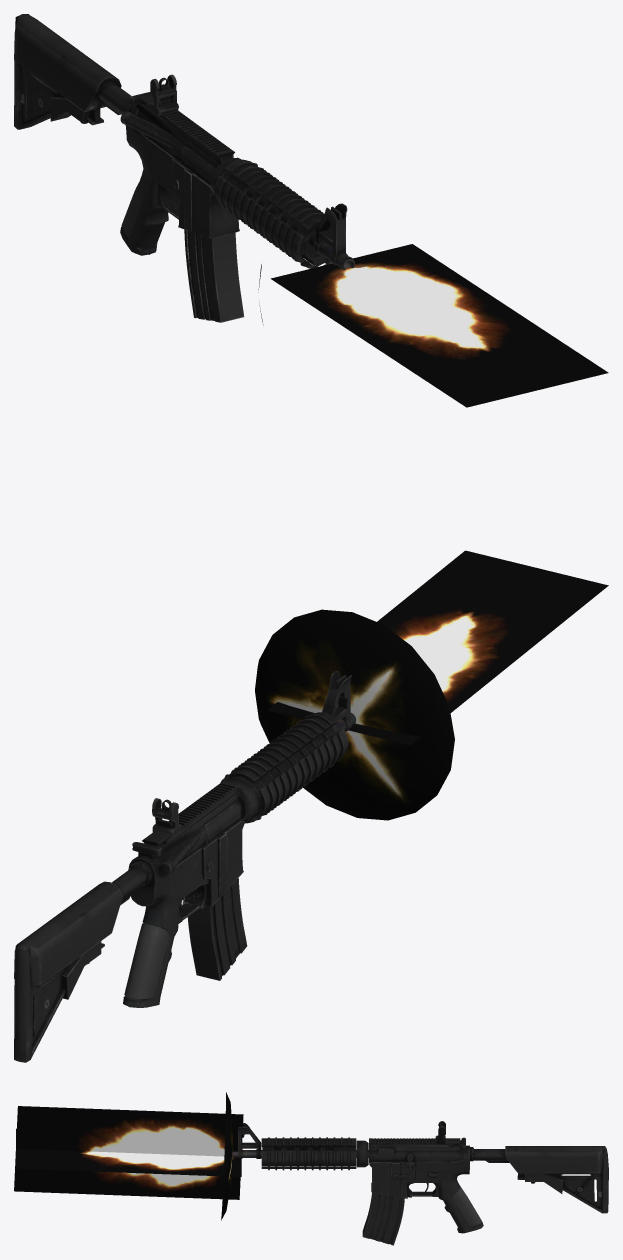
3 views of the same model, one above another, from view 1: azimuth 30°, elevation 25°; view 2: azimuth 150°, elevation 25°; view 3: azimuth 270°, elevation 25° (orthographic). The views are drawn at different scales.
Visible parts, largest first — view 1: M4_upd (×2), MuzzleFlash, M4_upd_mag (×2), M4_upd_scope; view 2: M4_upd (×2), MuzzleFlash, M4_upd_mag (×2); view 3: M4_upd (×2), MuzzleFlash, M4_upd_mag (×2).
Boxes of the visible parts, box(x1,y1,x2,y2) form: M4_upd (×2): box(14, 14, 355, 270); MuzzleFlash: box(258, 244, 608, 407); M4_upd_mag (×2): box(184, 229, 244, 322); M4_upd_scope: box(150, 75, 178, 115); M4_upd (×2): box(14, 671, 356, 1062); MuzzleFlash: box(255, 550, 608, 820); M4_upd_mag (×2): box(187, 878, 247, 980); M4_upd (×2): box(232, 1123, 608, 1233); MuzzleFlash: box(14, 1092, 243, 1220); M4_upd_mag (×2): box(362, 1192, 404, 1245).
Size of the model in its own units: 0.2492 by 0.306 by 1.13.
2 materials, 2 textured.
